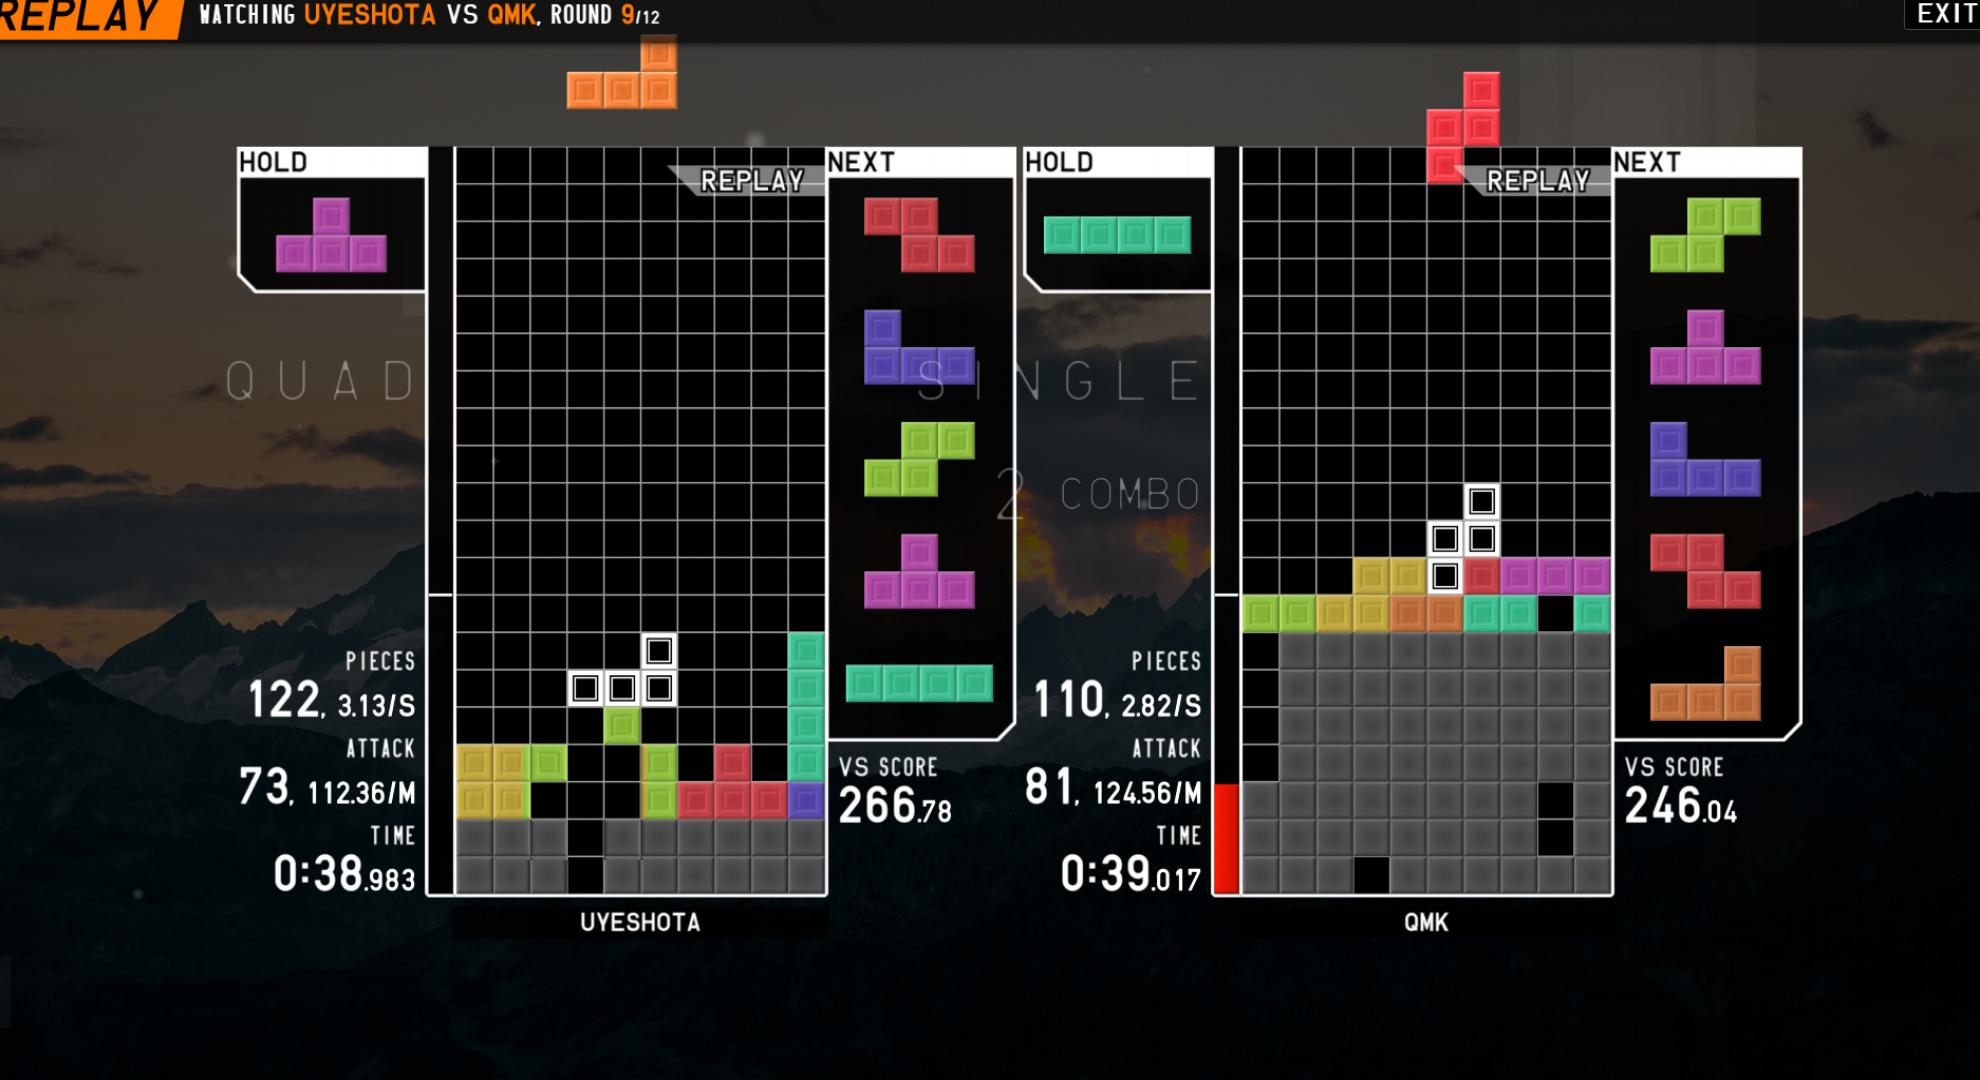tspin: (524, 743, 648, 861)
